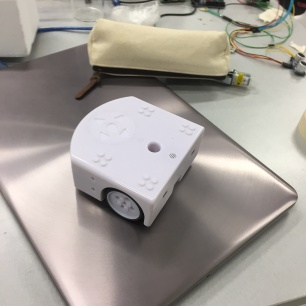thymio: (57, 90, 213, 232)
